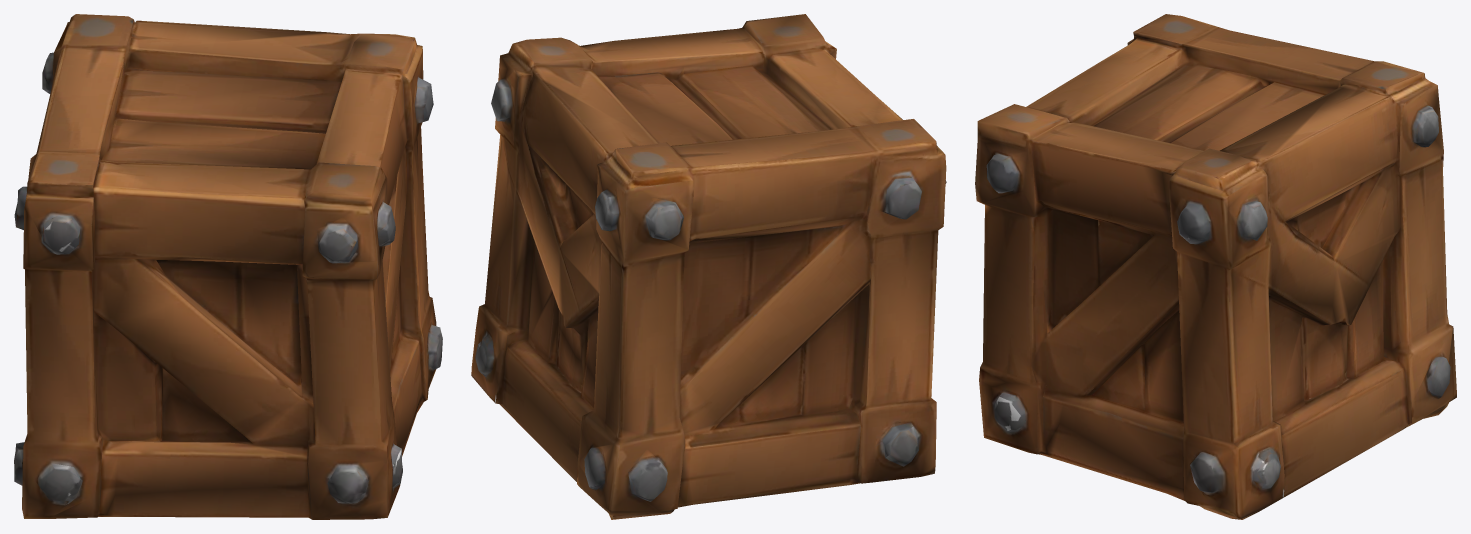
File: dec_crate.glb
3 views of the same model, side by side, from view 1: azimuth 30°, elevation 25°; view 2: azimuth 150°, elevation 25°; view 3: azimuth 270°, elevation 25° (orthographic). The views are drawn at different scales.
Visible parts, largest first — view 1: BakeLow; view 2: BakeLow; view 3: BakeLow.
Boxes of the visible parts, box(x1,y1,x2,y2) form: BakeLow: box(14, 14, 442, 519); BakeLow: box(471, 14, 946, 519); BakeLow: box(975, 14, 1456, 519).
Bounding box in the file's own units: 0.831 × 0.6468 × 0.8146.
1 material, 1 textured.
